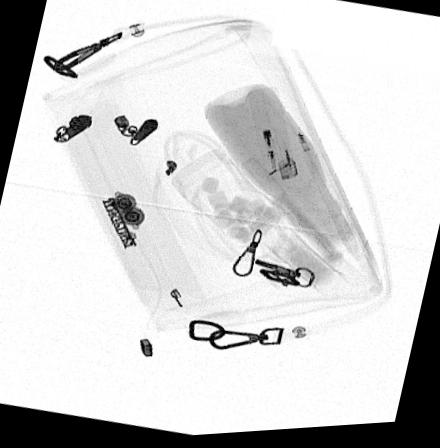Lighter: (246, 89, 298, 183)
